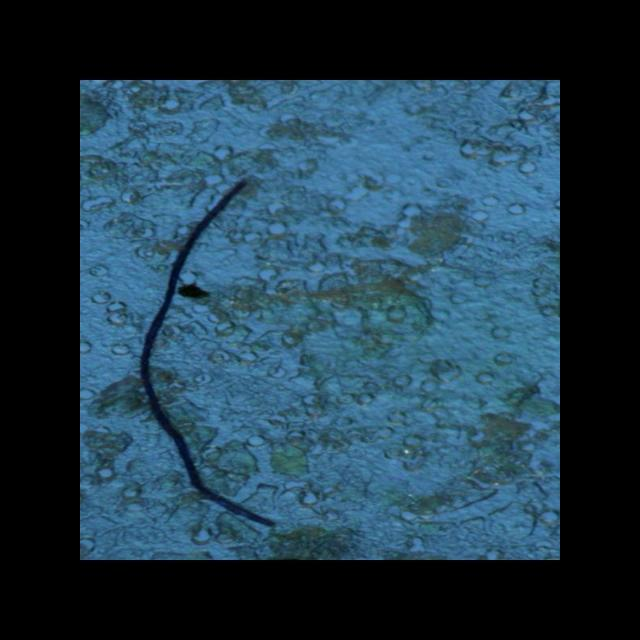Fibre: (139, 178, 277, 528)
